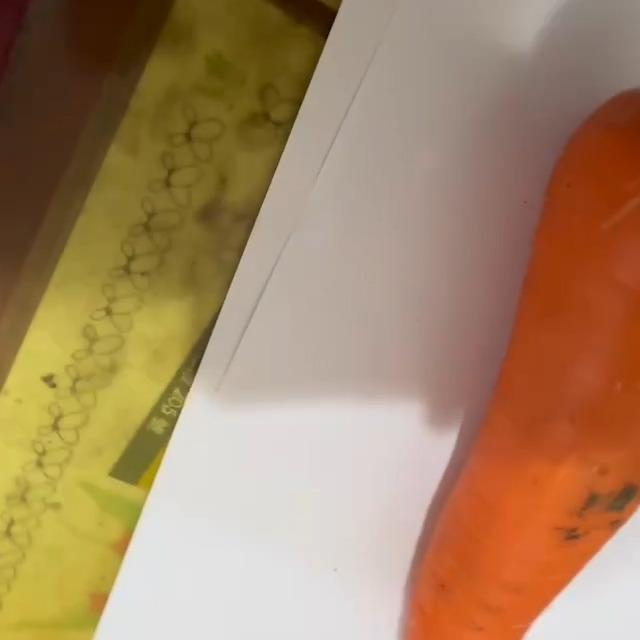carrot: (404, 4, 640, 640)
